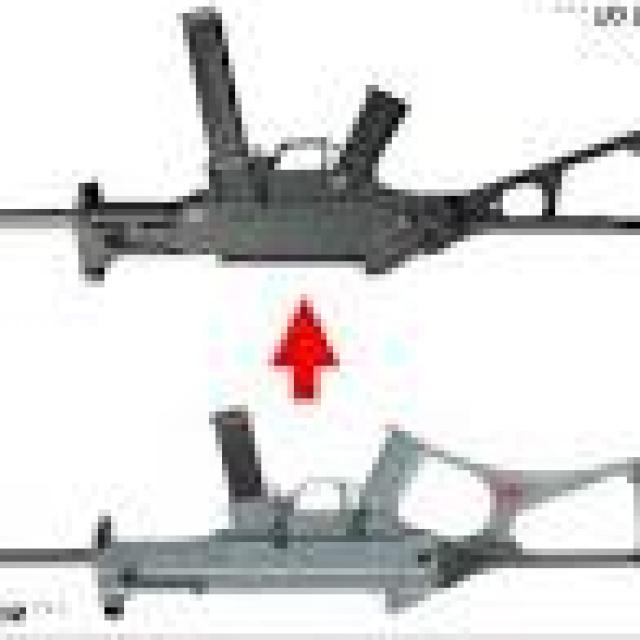Gun: (39, 39, 640, 320), (85, 372, 640, 634)
